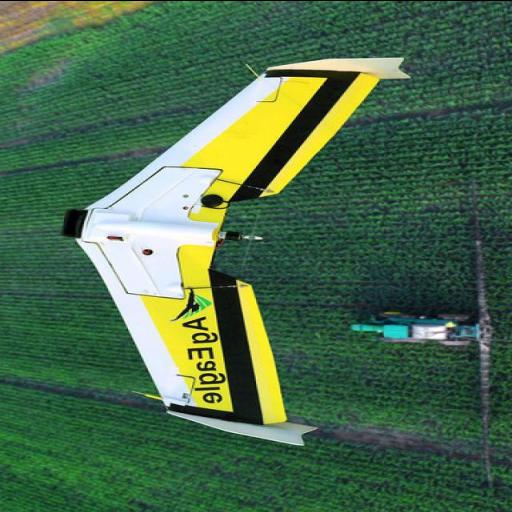uav: (58, 52, 414, 446)
